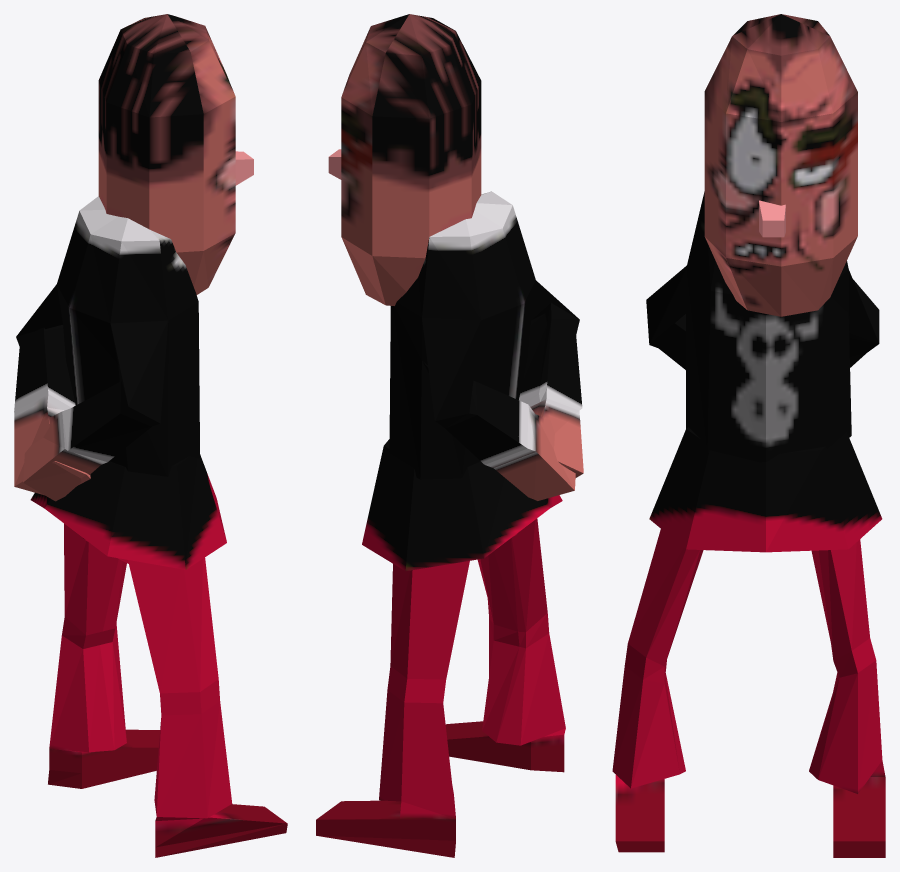
File: Bad1.glb
3 renders of one model, left to right at view 1: azimuth 30°, elevation 25°; view 2: azimuth 150°, elevation 25°; view 3: azimuth 270°, elevation 25°, orthographic. The views are drawn at different scales.
Visible parts, largest first — view 1: Bad1; view 2: Bad1; view 3: Bad1.
Boxes of the visible parts, x1=… form: Bad1: x1=14, y1=14, x2=287, y2=857; Bad1: x1=316, y1=14, x2=583, y2=857; Bad1: x1=612, y1=14, x2=885, y2=857.
Bounding box in the file's own units: 25.99 × 82.15 × 24.72.
1 material, 1 textured.
